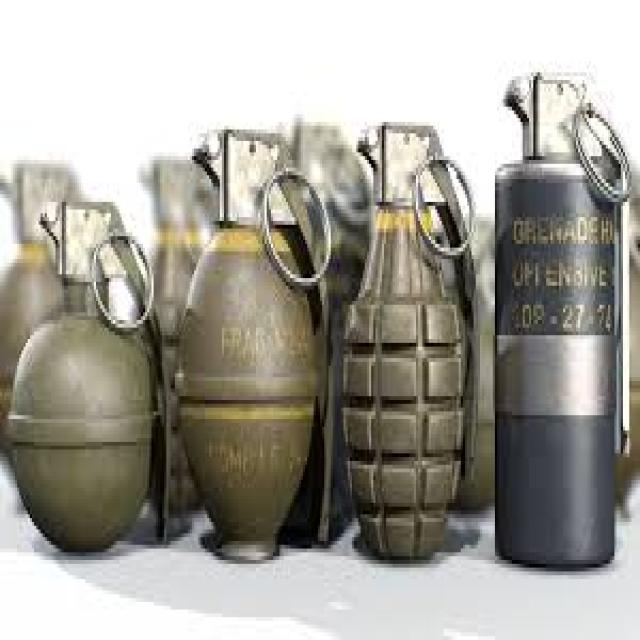grenade: (165, 111, 340, 581), (338, 112, 489, 573), (7, 190, 173, 576)
